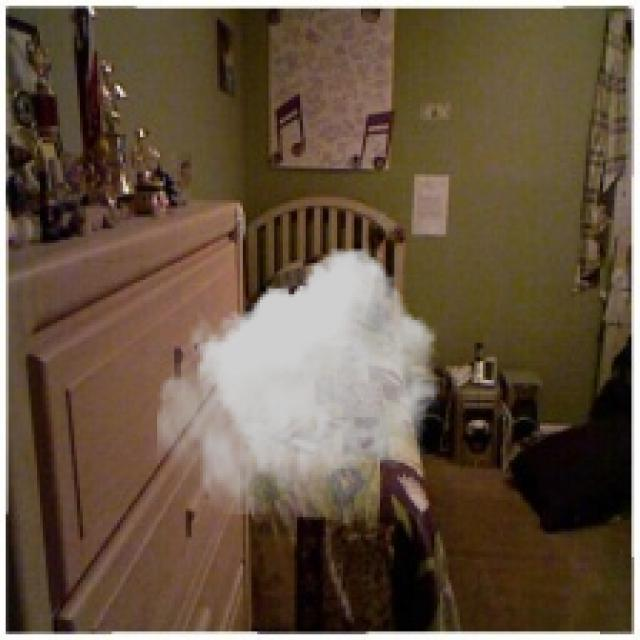smoke: (157, 249, 440, 514)
